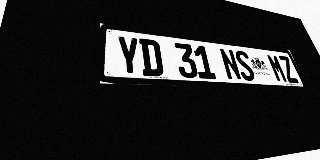1: (192, 45, 216, 79)
3: (174, 42, 199, 78)
D: (139, 38, 164, 77)
M: (266, 54, 289, 83)
N: (219, 48, 243, 80)
S: (233, 50, 257, 81)
Y: (116, 35, 142, 76)
Z: (277, 55, 300, 83)
